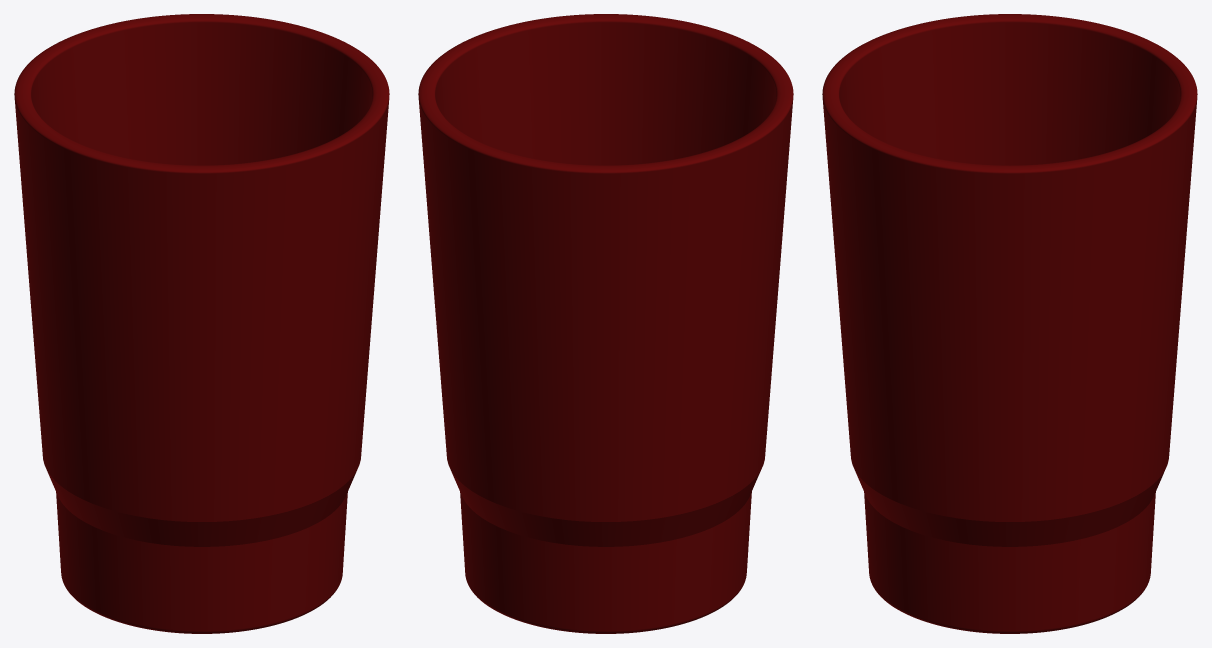
Rendered from Peony.glb.
3 views of the same model, side by side, from view 1: azimuth 30°, elevation 25°; view 2: azimuth 150°, elevation 25°; view 3: azimuth 270°, elevation 25° (orthographic).
Size of the model in its own units: 0.06 by 0.0856 by 0.06.
